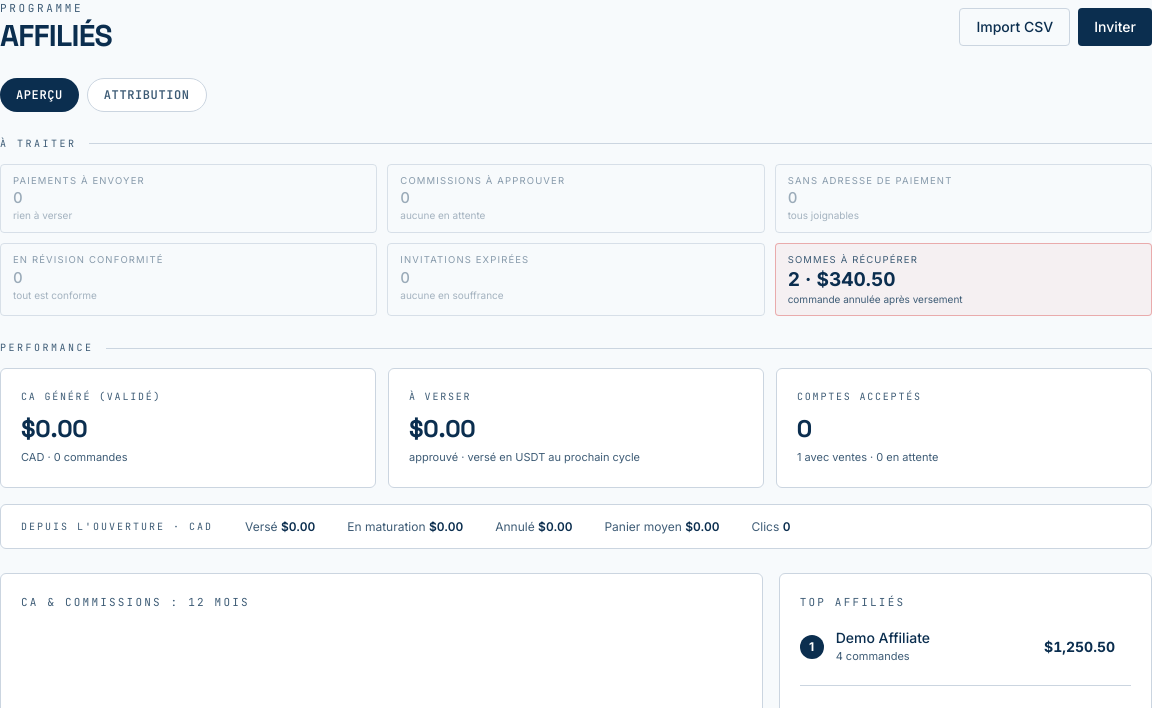
it: AdminAffiliates — classement des top affiliés › ne propose pas la fermeture d'un affilié actif
This screenshot has width=1152, height=708.
Expected: the text "4 commandes" is shown, 836,649 -> 910,663
What coordinates should you click on to do the following:
click the text "Demo Affiliate"
I would click on:
 (883, 637)
Its box is 836,629 -> 930,646.
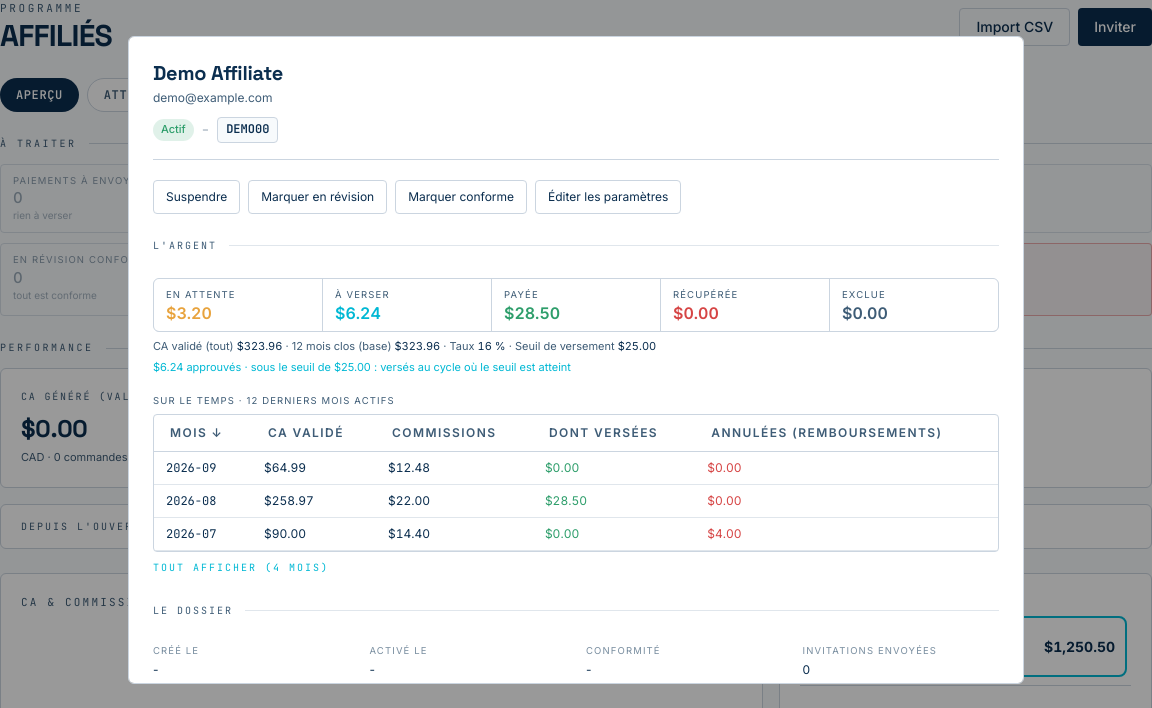
Expected: the element with test id "affiliate-detail-modal" is shown
